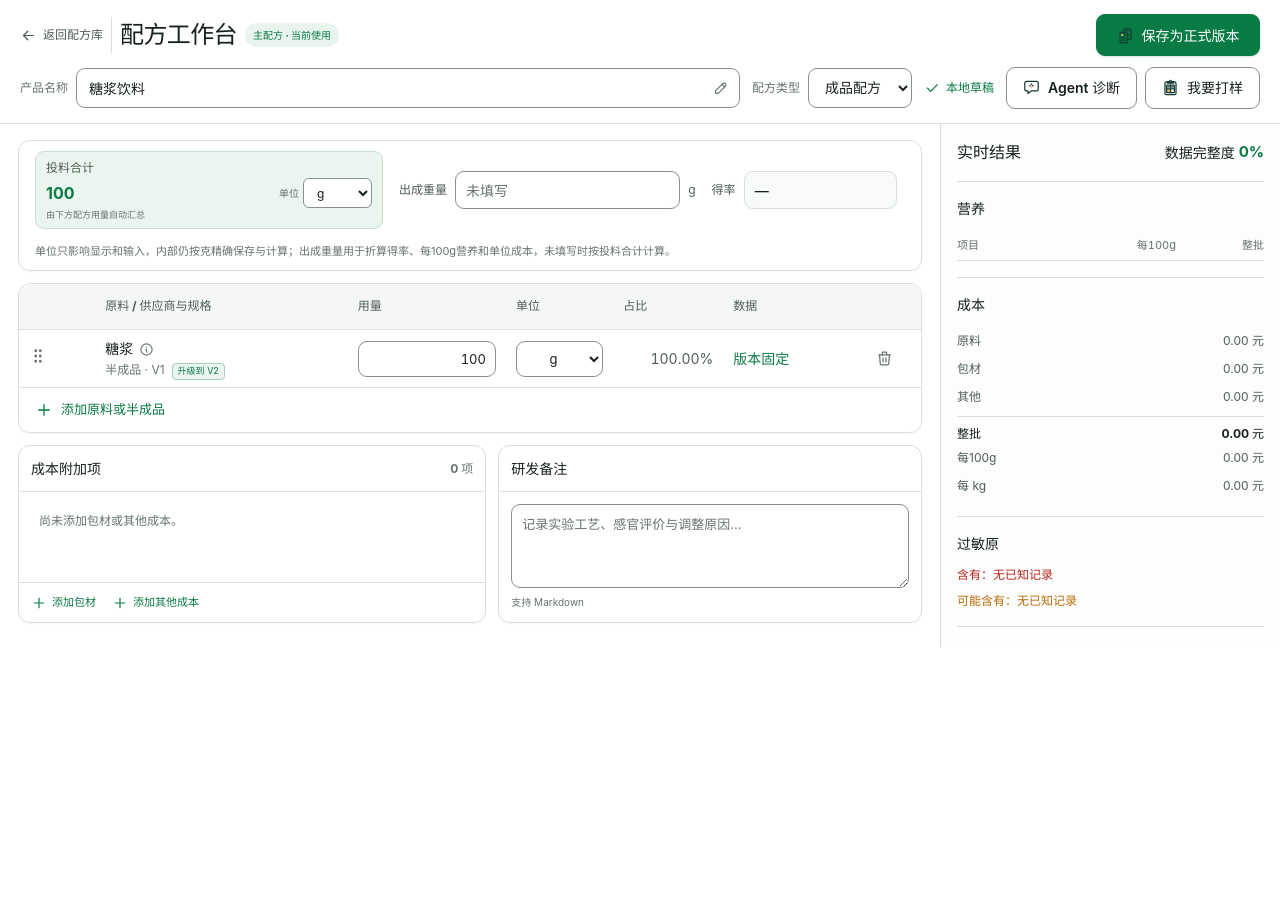
RecipeWorkbench formal versions › offers an explicit upgrade when a referenced semi-finished recipe has a newer formal version
Check: the field showing "糖浆饮料" is shown, box 76,68 -> 740,108
Click the button with aria-label "将糖浆升级到 V2" at (198, 371), box 172,363 -> 225,380
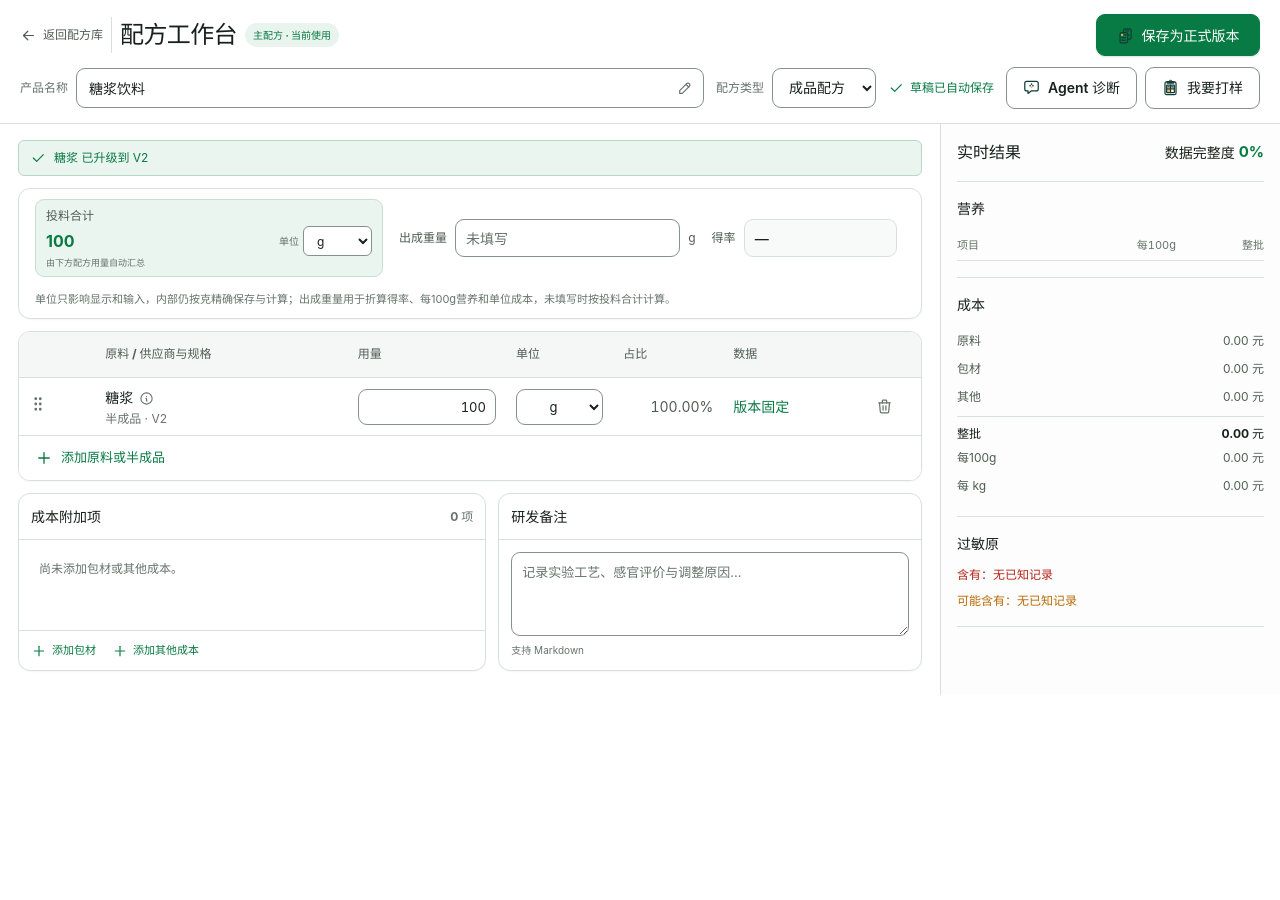
Check: the text "糖浆 已升级到 V2" is shown, box 18,140 -> 922,176
